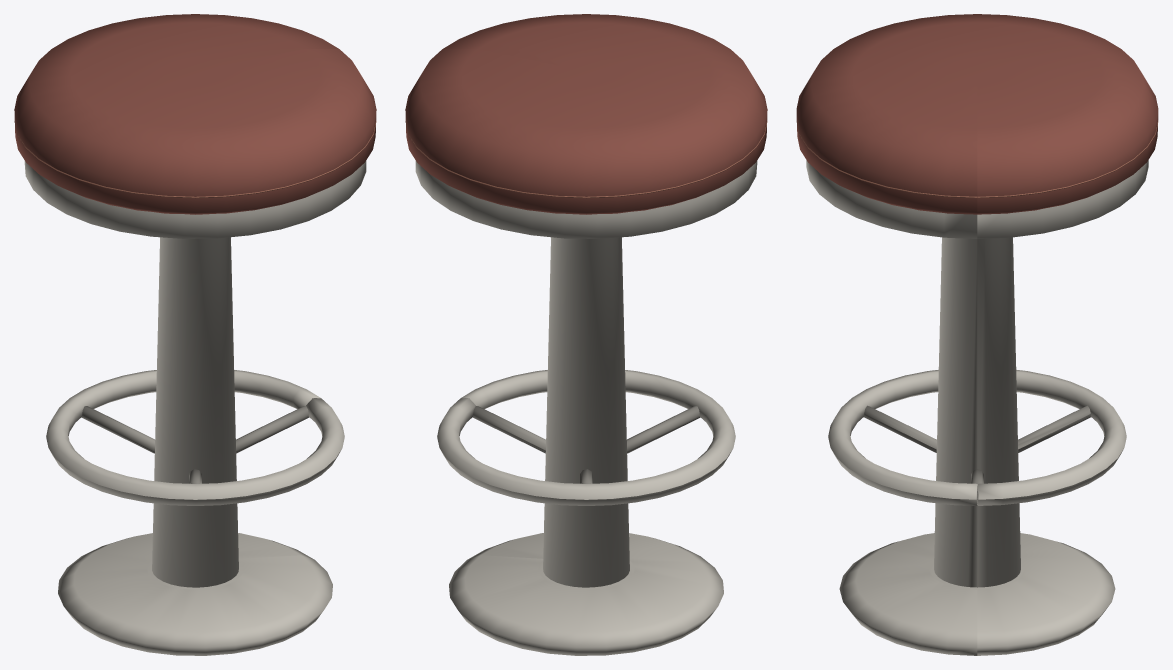
File: diner-stool.glb
The picture shows the model from 3 angles, left to right: view 1: azimuth 30°, elevation 25°; view 2: azimuth 150°, elevation 25°; view 3: azimuth 270°, elevation 25°; orthographic projection.
Visible parts, largest first — view 1: Frame; view 2: Frame; view 3: Frame.
Boxes of the visible parts, box(x1,y1,x2,y2) form: Frame: box(14, 14, 376, 655); Frame: box(405, 14, 767, 655); Frame: box(796, 14, 1158, 655).
Bounding box in the file's own units: 0.446 × 0.719 × 0.446.
